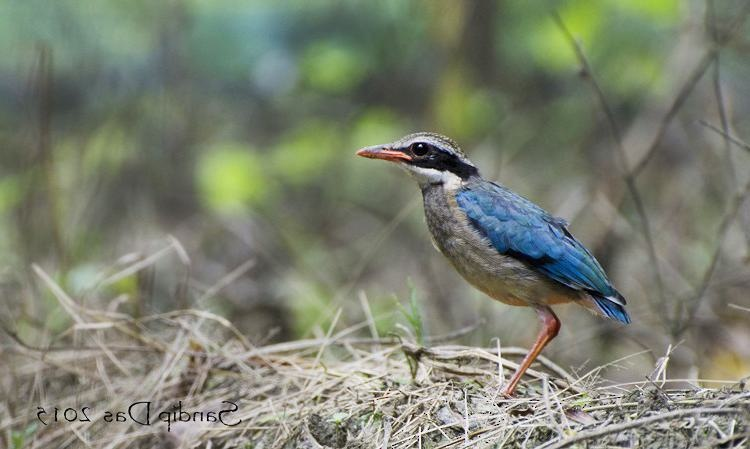pitta: (345, 112, 612, 414)
